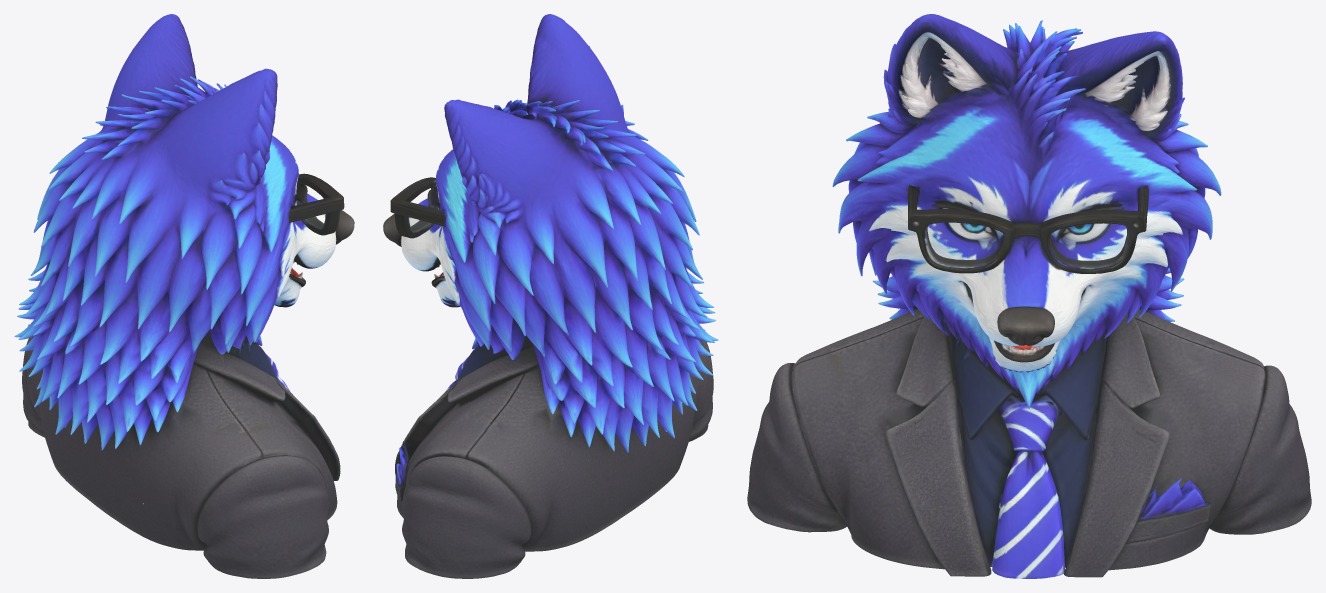
The model's file is lobo-1.glb.
3 views of the same model, side by side, from view 1: azimuth 30°, elevation 25°; view 2: azimuth 150°, elevation 25°; view 3: azimuth 270°, elevation 25° (orthographic). The views are drawn at different scales.
Parts seen in each view (by area): view 1: tripo_node_05acffc7-c746-4fe3-895f-c0ff81de3bd6; view 2: tripo_node_05acffc7-c746-4fe3-895f-c0ff81de3bd6; view 3: tripo_node_05acffc7-c746-4fe3-895f-c0ff81de3bd6.
Boxes of the visible parts, x1,y1,x2,y2 form: tripo_node_05acffc7-c746-4fe3-895f-c0ff81de3bd6: (14, 14, 354, 578); tripo_node_05acffc7-c746-4fe3-895f-c0ff81de3bd6: (383, 14, 718, 578); tripo_node_05acffc7-c746-4fe3-895f-c0ff81de3bd6: (747, 14, 1311, 578).
Bounding box in the file's own units: 0.7314 × 0.9795 × 0.9721.
Materials: 1 (1 with a texture image).
